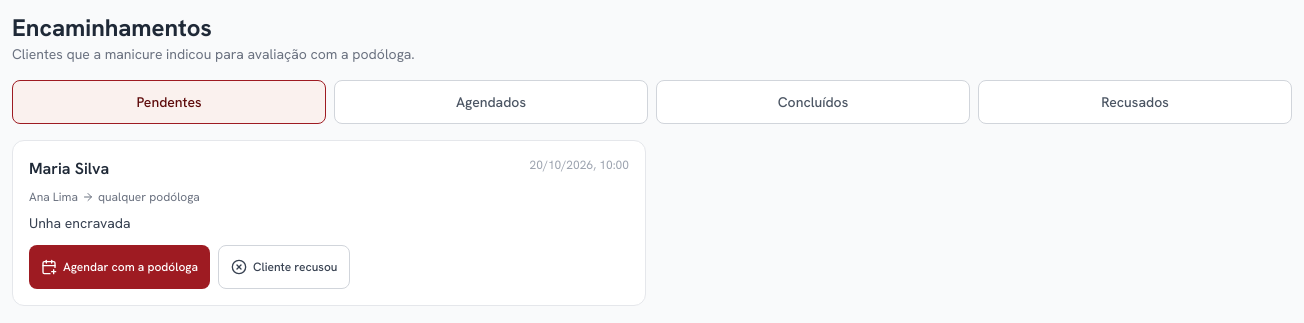
EncaminhamentosPage › troca de aba busca outro status
This screenshot has width=1304, height=323.
Expected: the text "Maria Silva" is shown, [29, 157, 109, 181]
Click the tab "Concluídos".
click(813, 102)  # box [656, 80, 970, 124]
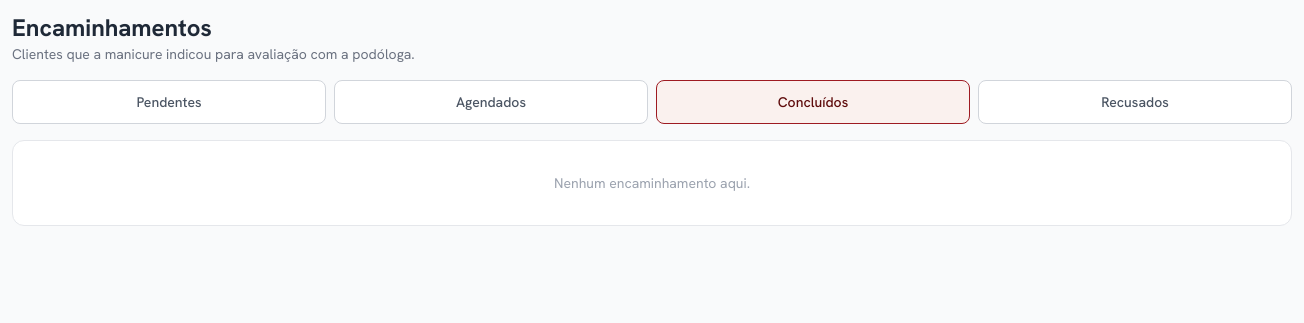
Expected: the text "Nenhum encaminhamento aqui." is shown, [12, 140, 1292, 226]
